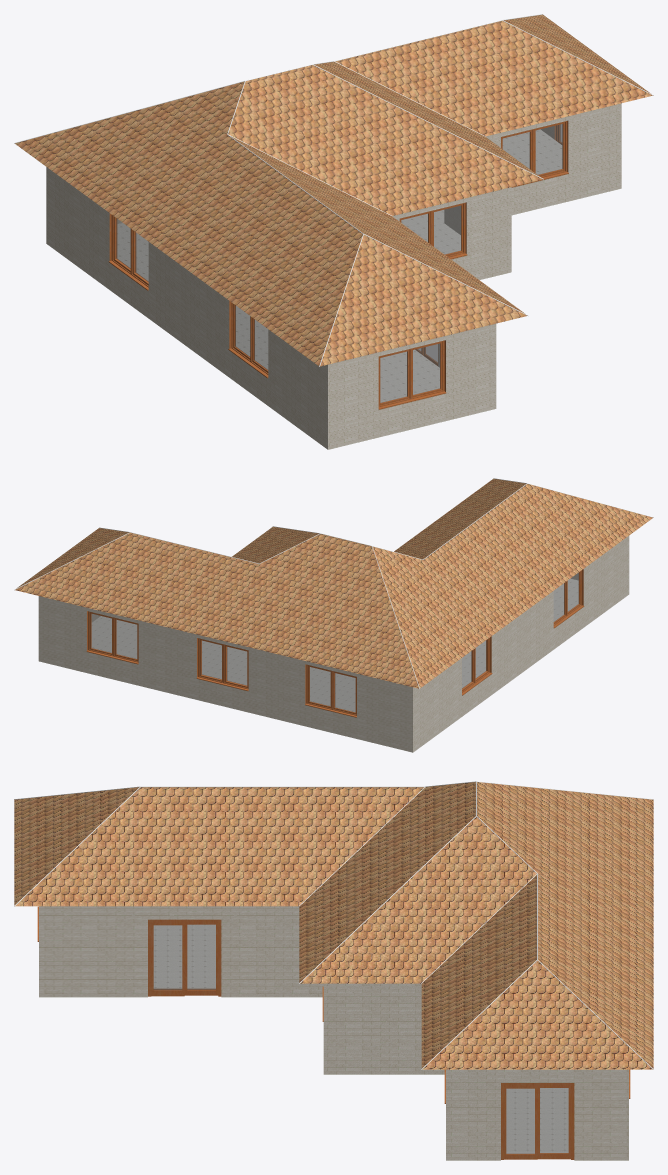
The model's file is telhado36N.glb.
The picture shows the model from 3 angles, top to bottom: view 1: azimuth 30°, elevation 25°; view 2: azimuth 150°, elevation 25°; view 3: azimuth 270°, elevation 25°; orthographic projection. The views are drawn at different scales.
Visible parts, largest first — view 1: object 2, object 33, object 34, root, object 35; view 2: object 2, object 33, object 34, root, object 35; view 3: object 2, object 33, object 34, root, object 35, Pipe.
Boxes of the visible parts, left/top/right/bottom form: object 2: left=15, top=14, right=652, bottom=366; object 33: left=46, top=103, right=621, bottom=449; object 34: left=116, top=124, right=562, bottom=402; root: left=117, top=129, right=562, bottom=402; object 35: left=108, top=120, right=568, bottom=409; object 2: left=15, top=478, right=652, bottom=688; object 33: left=38, top=536, right=629, bottom=752; object 34: left=91, top=572, right=578, bottom=712; root: left=91, top=578, right=578, bottom=711; object 35: left=86, top=569, right=584, bottom=717; object 2: left=14, top=782, right=653, bottom=1069; object 33: left=39, top=906, right=628, bottom=1160; object 34: left=153, top=924, right=568, bottom=1153; root: left=153, top=924, right=568, bottom=1153; object 35: left=37, top=906, right=630, bottom=1159; Pipe: left=140, top=786, right=425, bottom=787.
Bounding box in the file's own units: 15.72 × 5.27 × 15.72.
10 materials, 4 textured.
